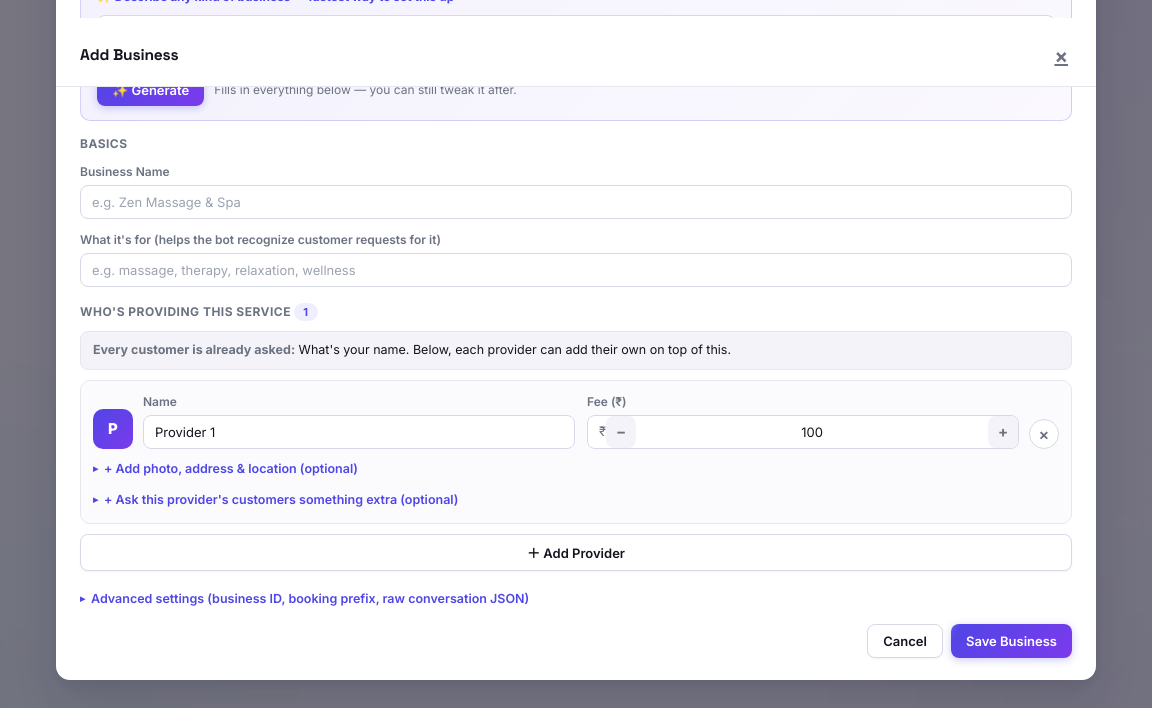
Test: WorkflowEditorModal › blocks saving without a business name instead of silently posting
(page scrolled)
Step 1. Click the button "Save Business" → (1011, 641), box [951,624,1072,658]
(page scrolled)
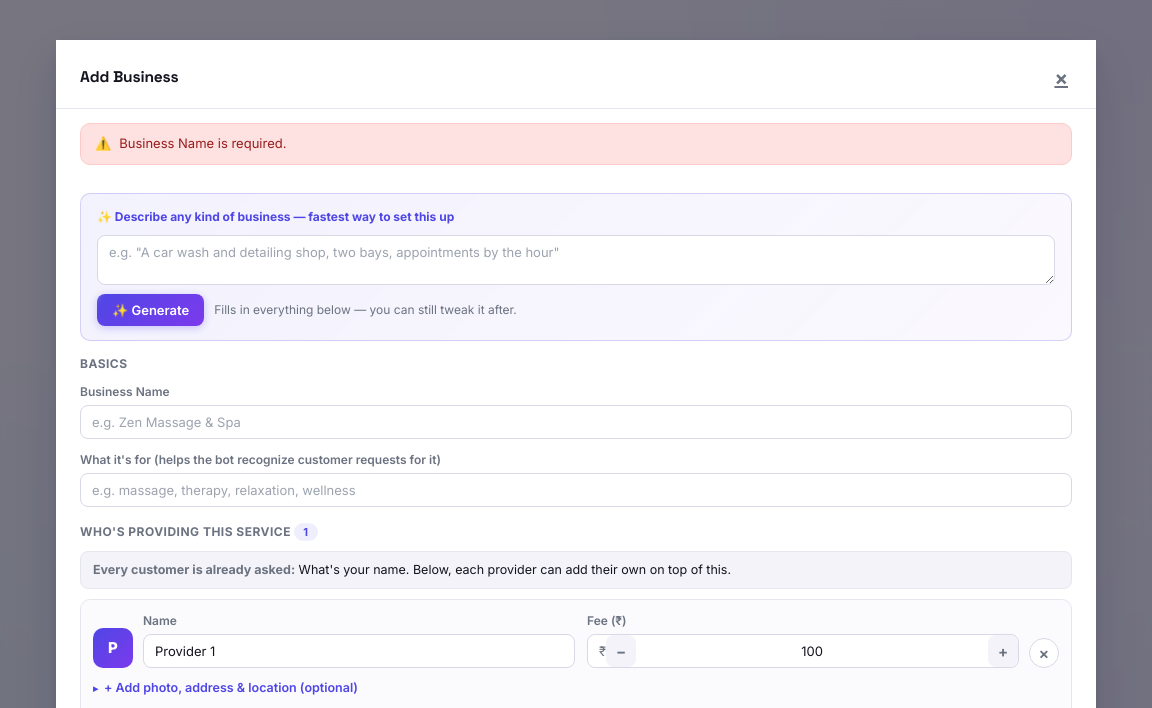
Now the text "Business Name is required." is shown, box [80,123,1072,164]
